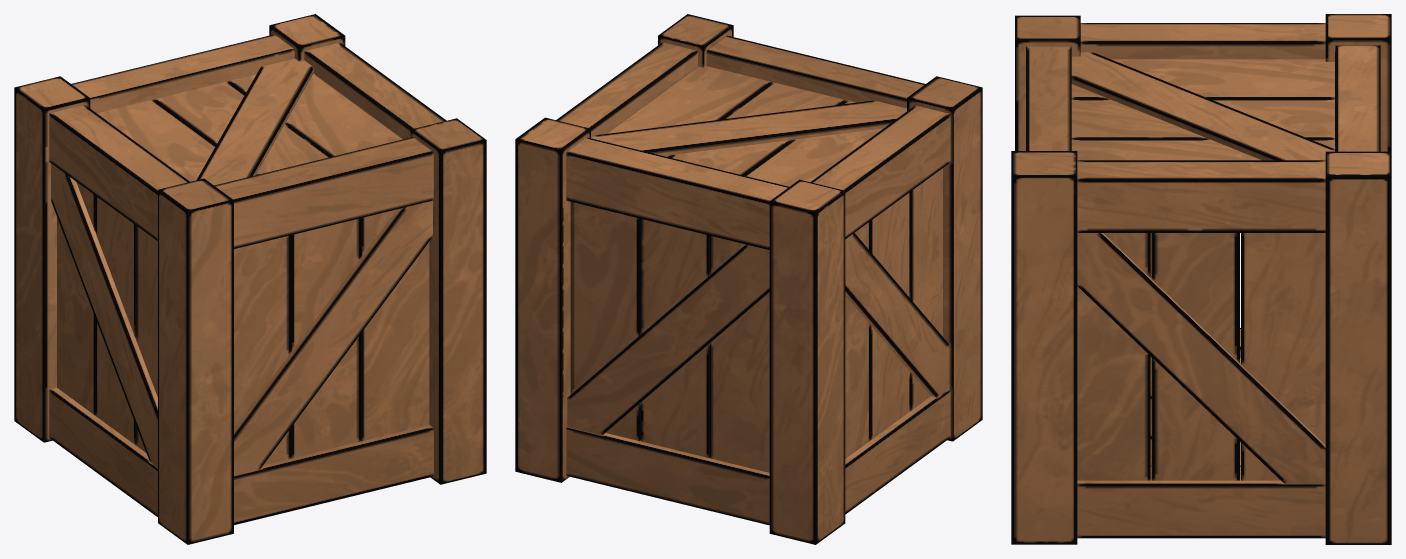
The model's file is Curvature Crate.fbx.
The picture shows the model from 3 angles, left to right: view 1: azimuth 30°, elevation 25°; view 2: azimuth 150°, elevation 25°; view 3: azimuth 270°, elevation 25°; orthographic projection. The views are drawn at different scales.
Parts seen in each view (by area): view 1: Cube.027; view 2: Cube.027; view 3: Cube.027.
Part boxes in pixels (x1,y1,x2,y2): Cube.027: (14,14,486,544); Cube.027: (515,14,982,544); Cube.027: (1011,14,1391,544).
Size of the model in its own units: 189 by 200 by 187.
1 material, 1 textured.
